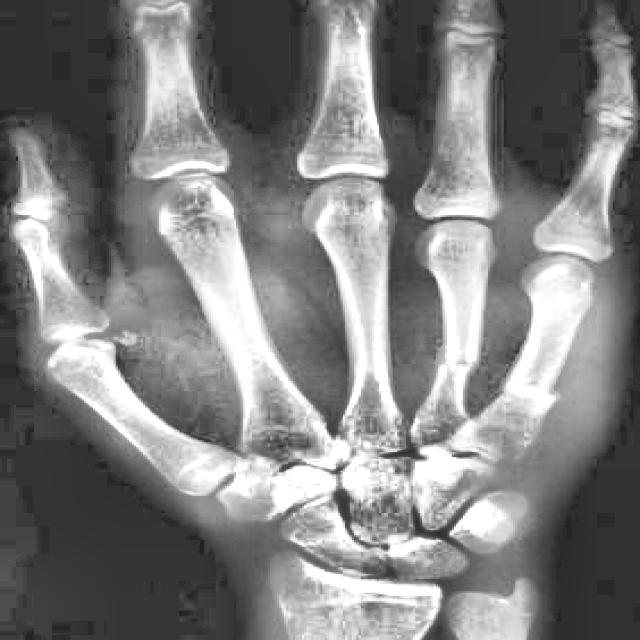fracture: (492, 374, 566, 403), (431, 347, 479, 378)
